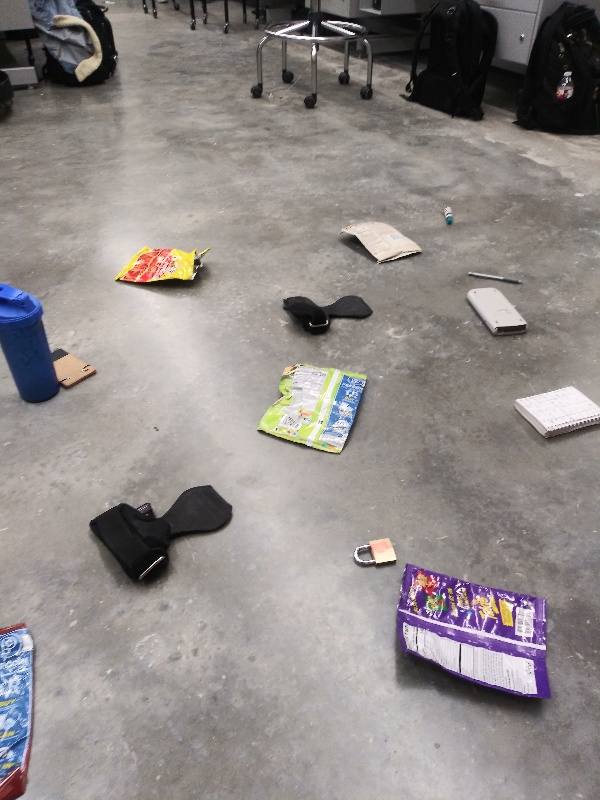bag: (392, 559, 554, 709), (253, 359, 372, 459), (1, 615, 38, 800), (111, 243, 214, 290), (332, 216, 429, 263)
bottle: (554, 68, 579, 102)
